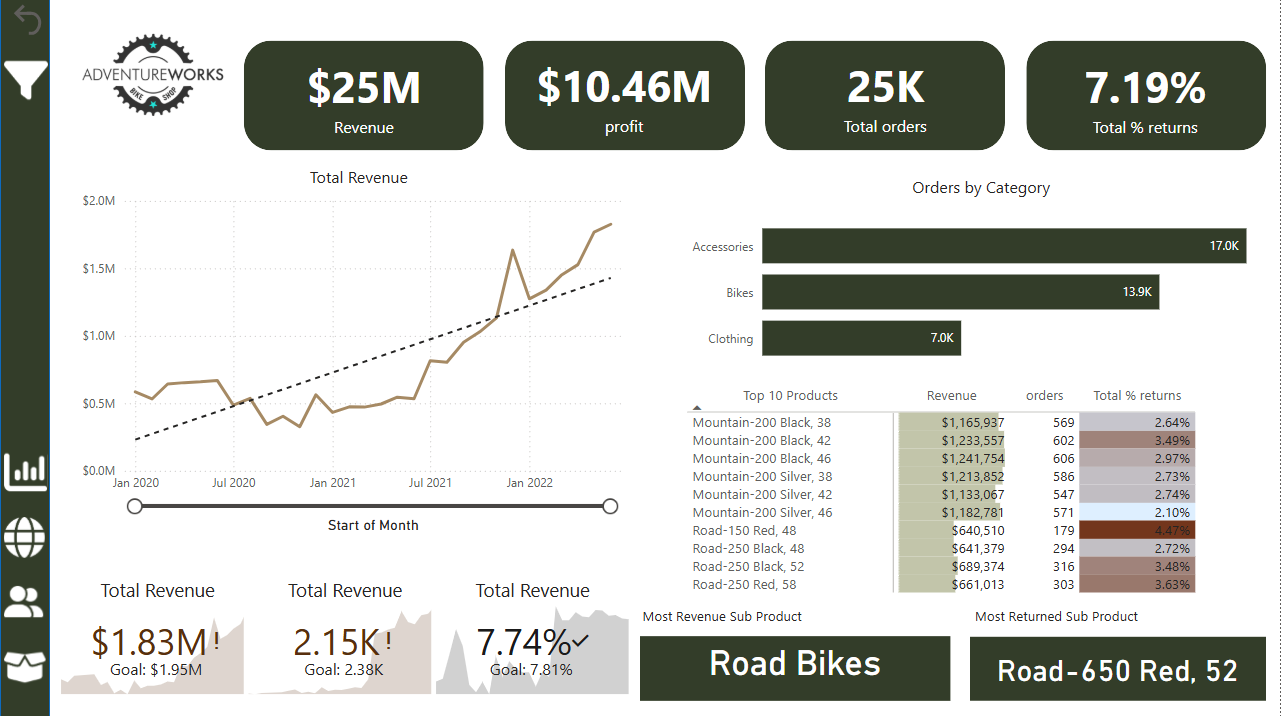

What the dashboard file says about the page in this screenshot:
{"tool":"powerbi","page":{"name":"EXEC Dashboard","canvas":[1280,720],"ordinal":0},"visuals":[{"type":"image","box":[62.9,0,181.4,152.9],"z":0},{"type":"shape","box":[244.3,42.9,240,110],"z":1000},{"type":"shape","box":[504.8,42.9,240,110],"z":2000},{"type":"shape","box":[765.2,42.9,240,110],"z":3000},{"type":"shape","box":[1025.7,42.9,240,110],"z":4000},{"type":"card","fields":{"Values":["Dax Measures.Total Revenue"]},"box":[260,31.4,208.6,135.7],"z":5000},{"type":"card","fields":{"Values":["Dax Measures.Net profit"]},"box":[520,30,208.6,135.7],"z":6000},{"type":"card","fields":{"Values":["Dax Measures.Total orders"]},"box":[781.4,30,208.6,135.7],"z":7000},{"type":"card","fields":{"Values":["Dax Measures.% returns"]},"box":[1041.4,31.4,208.6,135.7],"z":8000},{"type":"lineChart","title":"Total Revenue","fields":{"Category":["Calendar Lookup.Start of Month"],"Y":["Dax Measures.Total Revenue"]},"box":[77.5,167.5,562.5,372.5],"z":9000},{"type":"clusteredBarChart","title":"Orders by Category","fields":{"Category":["Product Categories Lookup.CategoryName"],"Y":["Dax Measures.Total orders"]},"box":[682.9,177.1,597.1,205.7],"z":10000},{"type":"pivotTable","fields":{"Rows":["Product Lookup.ProductName"],"Values":["Dax Measures.Total Revenue","Dax Measures.Total orders","Dax Measures.% returns"]},"box":[682.9,382.9,582.9,221.4],"z":11000},{"type":"card","fields":{"Values":["Min(Product Subcategories Lookup.SubcategoryName)"]},"box":[640,621.4,310,81.4],"z":12000},{"type":"card","fields":{"Values":["Min(Product Lookup.ProductName)"]},"box":[970,638.6,295.7,64.3],"z":13000},{"type":"textbox","box":[637.1,604.3,322.9,34.3],"z":14000},{"type":"textbox","box":[970,604.3,295.7,34.3],"z":15000},{"type":"kpi","title":"Total Revenue ","fields":{"Indicator":["Dax Measures.Total Revenue"],"TrendLine":["Calendar Lookup.Start of Month"],"Goal":["Dax Measures.Target month of revenue"]},"box":[56.9,578.1,202.9,122.9],"z":16000},{"type":"kpi","title":"Total Revenue ","fields":{"TrendLine":["Calendar Lookup.Start of Month"],"Indicator":["Dax Measures.Total orders"],"Goal":["Dax Measures.target of orders"]},"box":[244,578.1,202.9,122.9],"z":17000},{"type":"kpi","title":"Total Revenue ","fields":{"TrendLine":["Calendar Lookup.Start of Month"],"Indicator":["Dax Measures.% returns"],"Goal":["Dax Measures.target return"]},"box":[431.1,578.1,202.9,122.9],"z":18000},{"type":"shape","box":[0,0,50,720],"z":19000},{"type":"actionButton","box":[0,448.8,56.2,51.2],"z":20000},{"type":"actionButton","box":[0,515,50,48.8],"z":21000},{"type":"actionButton","box":[0,580,50,47.5],"z":22000},{"type":"actionButton","box":[0,643.8,50,51.2],"z":23000},{"type":"actionButton","box":[7.3,1.5,100.2,40.7],"z":24000},{"type":"actionButton","box":[115.3,2.5,99.4,40.5],"z":25000},{"type":"actionButton","box":[0,56.7,114.8,52.3],"z":26000}]}

Visuals, with their boxes on the page's 1280x720 design canvas (x1, y1, x2, y2). These are canvas units, not pixel positions in the 1281x716 screenshot, which may show the page scaled, cropped or inside an application window:
image: pyautogui.locateOnScreen(63, 0, 244, 153)
shape: pyautogui.locateOnScreen(244, 43, 484, 153)
shape: pyautogui.locateOnScreen(505, 43, 745, 153)
shape: pyautogui.locateOnScreen(765, 43, 1005, 153)
shape: pyautogui.locateOnScreen(1026, 43, 1266, 153)
card - Dax Measures.Total Revenue: pyautogui.locateOnScreen(260, 31, 469, 167)
card - Dax Measures.Net profit: pyautogui.locateOnScreen(520, 30, 729, 166)
card - Dax Measures.Total orders: pyautogui.locateOnScreen(781, 30, 990, 166)
card - Dax Measures.% returns: pyautogui.locateOnScreen(1041, 31, 1250, 167)
"Total Revenue" lineChart: pyautogui.locateOnScreen(78, 168, 640, 540)
"Orders by Category" clusteredBarChart: pyautogui.locateOnScreen(683, 177, 1280, 383)
pivotTable - Product Lookup.ProductName x Dax Measures.Total Revenue: pyautogui.locateOnScreen(683, 383, 1266, 604)
card - Min(Product Subcategories Lookup.SubcategoryName): pyautogui.locateOnScreen(640, 621, 950, 703)
card - Min(Product Lookup.ProductName): pyautogui.locateOnScreen(970, 639, 1266, 703)
textbox: pyautogui.locateOnScreen(637, 604, 960, 639)
textbox: pyautogui.locateOnScreen(970, 604, 1266, 639)
"Total Revenue " kpi: pyautogui.locateOnScreen(57, 578, 260, 701)
"Total Revenue " kpi: pyautogui.locateOnScreen(244, 578, 447, 701)
"Total Revenue " kpi: pyautogui.locateOnScreen(431, 578, 634, 701)
shape: pyautogui.locateOnScreen(0, 0, 50, 720)
actionButton: pyautogui.locateOnScreen(0, 449, 56, 500)
actionButton: pyautogui.locateOnScreen(0, 515, 50, 564)
actionButton: pyautogui.locateOnScreen(0, 580, 50, 628)
actionButton: pyautogui.locateOnScreen(0, 644, 50, 695)
actionButton: pyautogui.locateOnScreen(7, 2, 108, 42)
actionButton: pyautogui.locateOnScreen(115, 2, 215, 43)
actionButton: pyautogui.locateOnScreen(0, 57, 115, 109)
